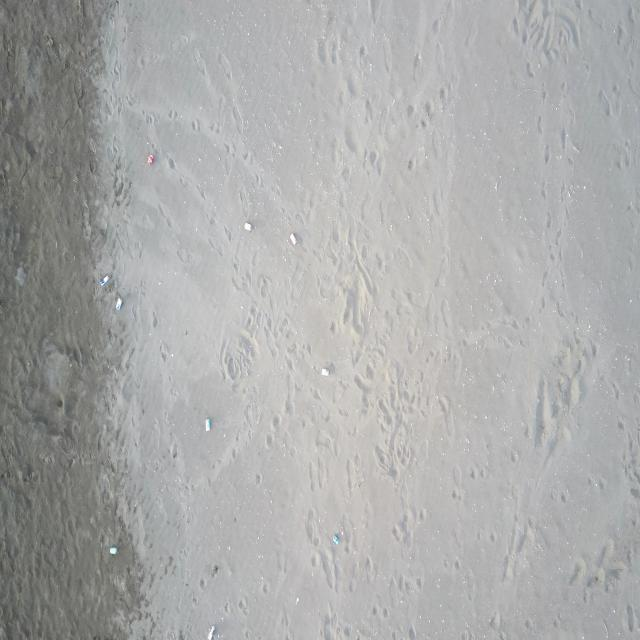Garbage: (15, 267, 26, 286), (98, 275, 110, 286), (207, 624, 215, 639), (204, 417, 211, 431), (332, 532, 340, 544), (288, 233, 296, 244), (115, 296, 121, 310), (243, 221, 252, 230), (145, 155, 154, 163), (108, 546, 116, 555), (320, 367, 327, 375)
